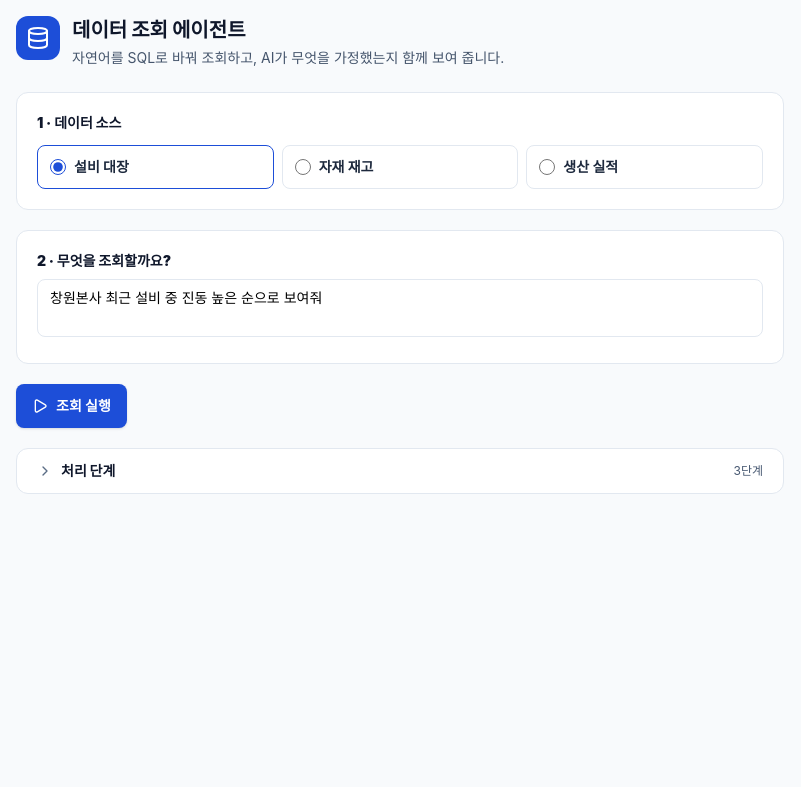
it: DataQueryPage › 소스를 바꾸면 예시 질의와 결과가 함께 바뀐다
The image size is (801, 787).
Click the radio button labelled "자재 재고" at (303, 167), box x1=295 y1=159 x2=311 y2=175
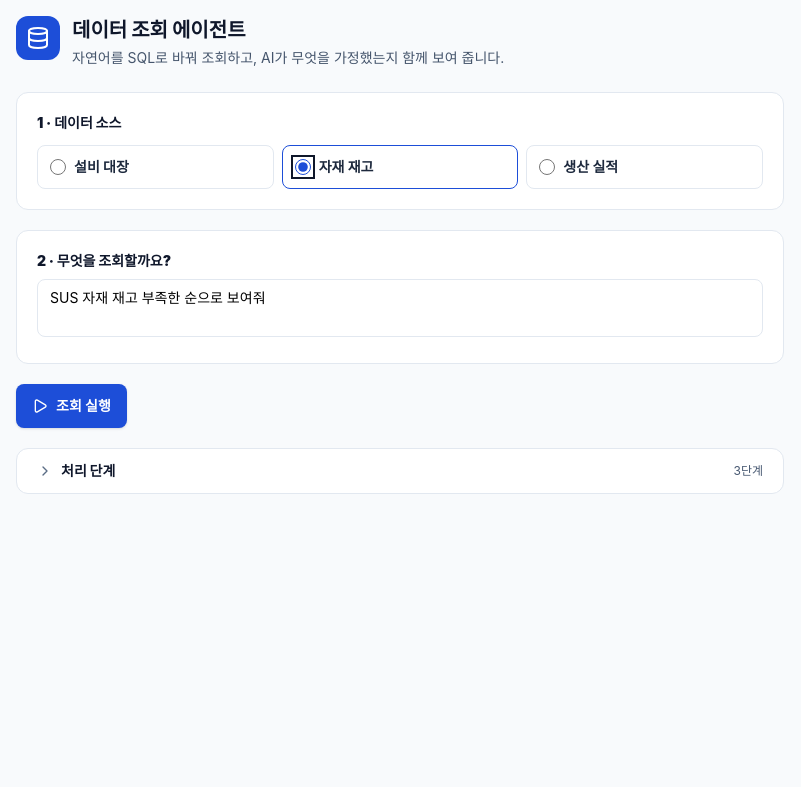
Expected: the text box labelled "2 · 무엇을 조회할까요?" holds "SUS 자재 재고 부족한 순으로 보여줘", x1=37 y1=279 x2=763 y2=337
Click the button "조회 실행" at (71, 406), box x1=16 y1=384 x2=127 y2=428
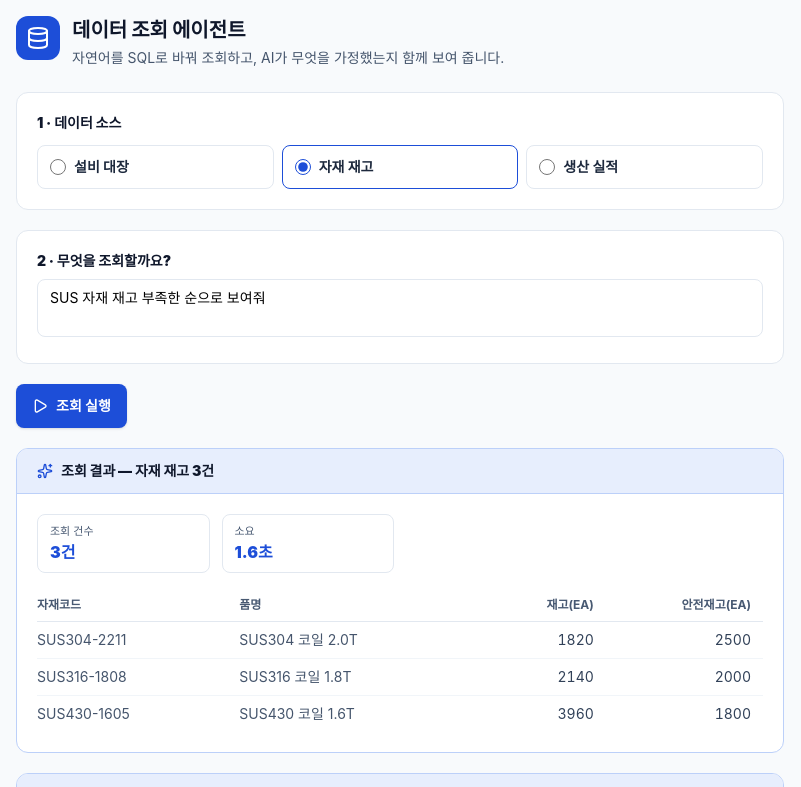
Expected: the element "자재 재고" shows "SUS304-2211", x1=37 y1=630 x2=126 y2=648
